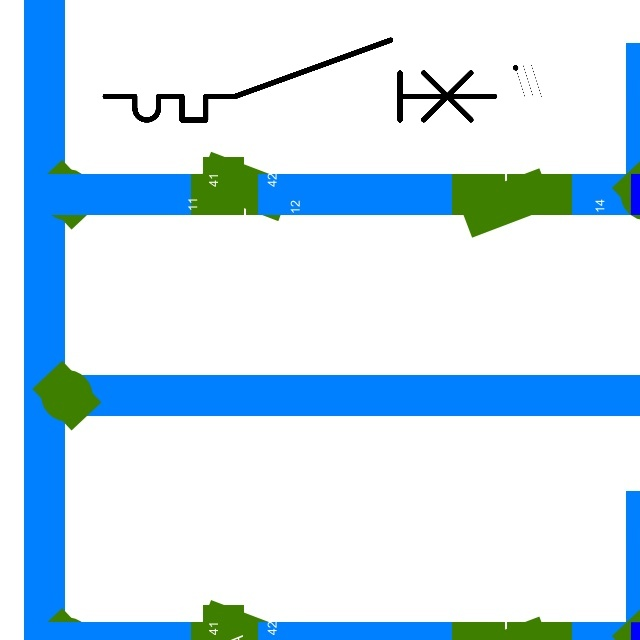interruptor_termomagnetico: (95, 30, 504, 130)
